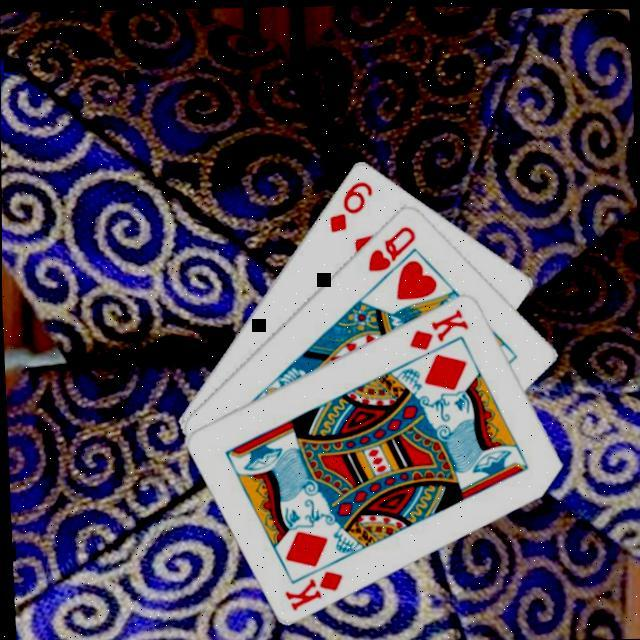6D: (326, 172, 378, 233)
KD: (405, 300, 474, 350), (280, 562, 348, 611)
QH: (363, 218, 421, 272)
